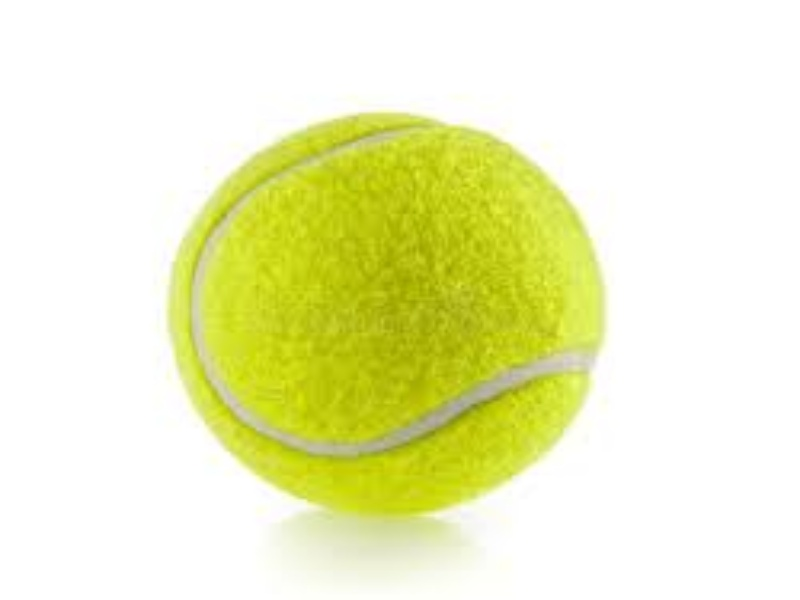tennis ball: (168, 84, 613, 526)
